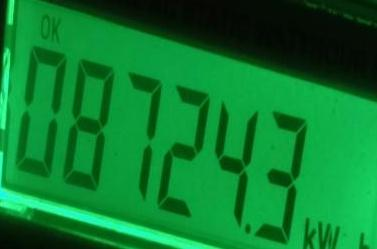.: (301, 211, 377, 249)
0: (242, 221, 253, 232)
1: (16, 50, 65, 182)
3: (154, 88, 209, 215)
4: (258, 112, 310, 244)
5: (209, 99, 259, 234)
8: (122, 71, 162, 198)
9: (65, 63, 115, 190)
